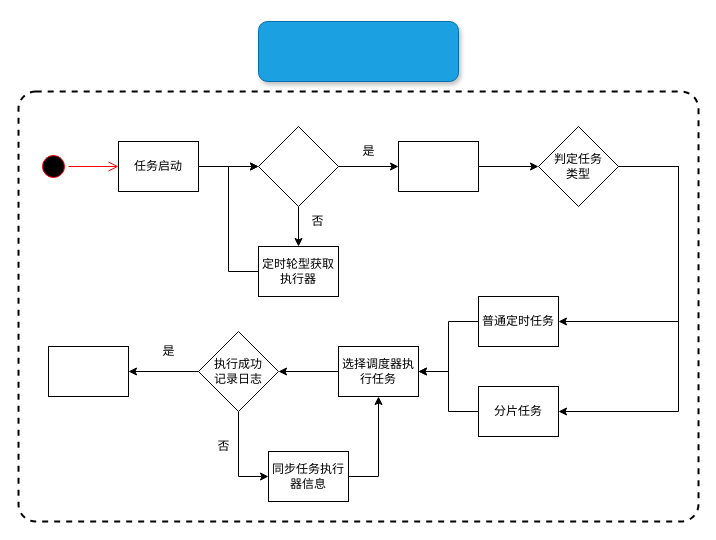
This 716x540 diagram has some shape labels left out. The shapes that lost their labels are listed below. From the top down, each one's centre as x and y in pixels, then its label:
At (x=359, y=52): "任务运行流程".
At (x=298, y=166): "数据库是否包含任务执行器".
At (x=438, y=166): "获取任务执行器列表".
At (x=88, y=371): "结束".
